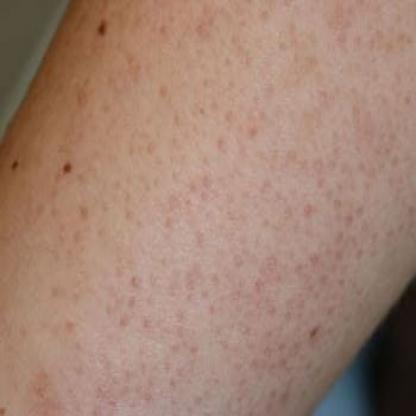Chicken Skin: (80, 13, 380, 302), (61, 222, 304, 410)
